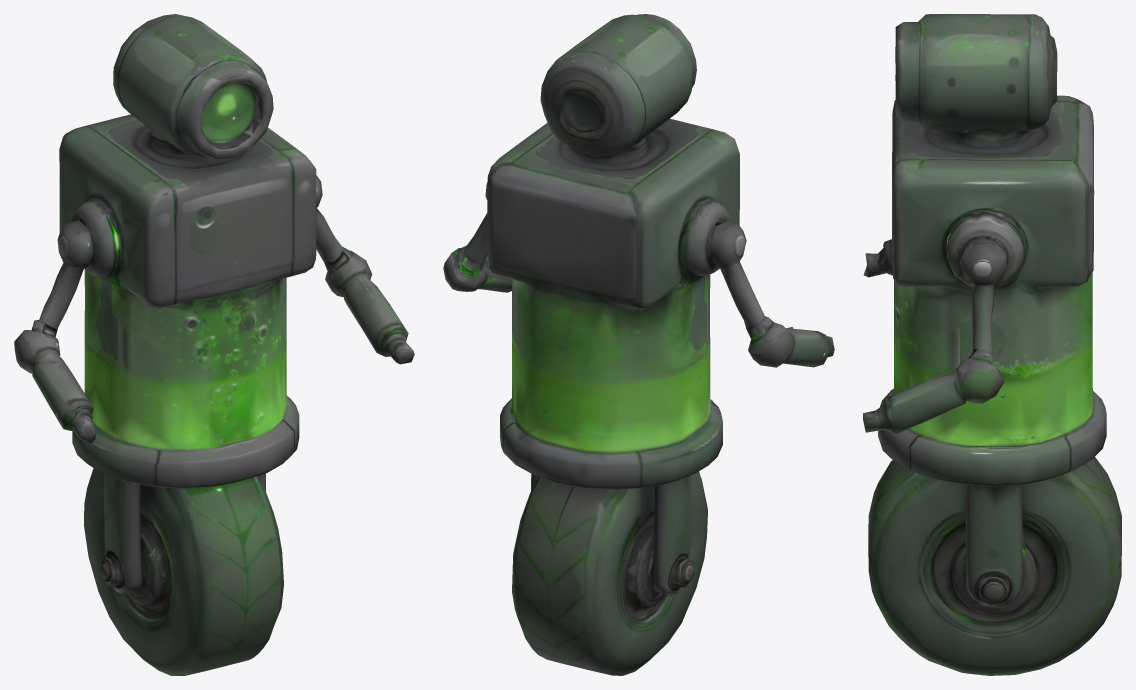
Rendered from EcoBot_Wheeler_0404141521_texture.glb.
The picture shows the model from 3 angles, left to right: view 1: azimuth 30°, elevation 25°; view 2: azimuth 150°, elevation 25°; view 3: azimuth 270°, elevation 25°; orthographic projection. The views are drawn at different scales.
Size of the model in its own units: 1.16 by 2 by 0.7331.
Materials: 1 (1 with a texture image).
